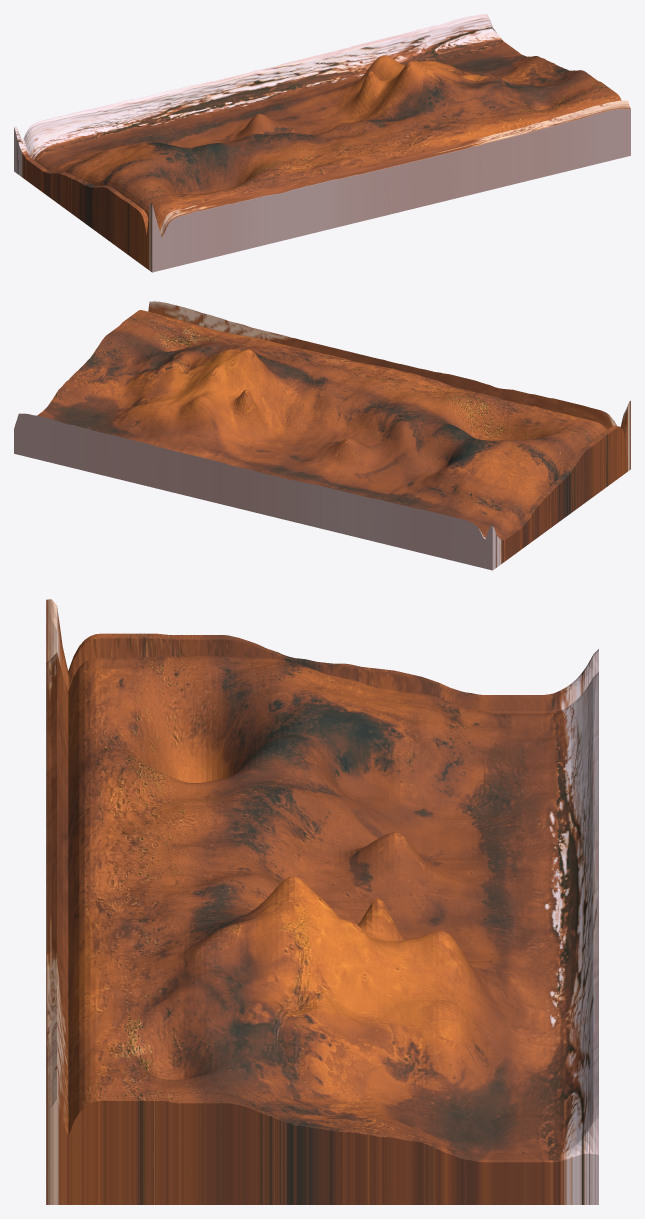
File: mars_topografi.dae
The picture shows the model from 3 angles, top to bottom: view 1: azimuth 30°, elevation 25°; view 2: azimuth 150°, elevation 25°; view 3: azimuth 270°, elevation 25°; orthographic projection. The views are drawn at different scales.
Visible parts, largest first — view 1: Root; view 2: Root; view 3: Root.
Boxes of the visible parts, x1,y1,x2,y2 form: Root: (14, 14, 630, 272); Root: (14, 301, 630, 570); Root: (46, 599, 598, 1204).
Size of the model in its own units: 50 by 25 by 8.67.
Materials: 1 (1 with a texture image).
